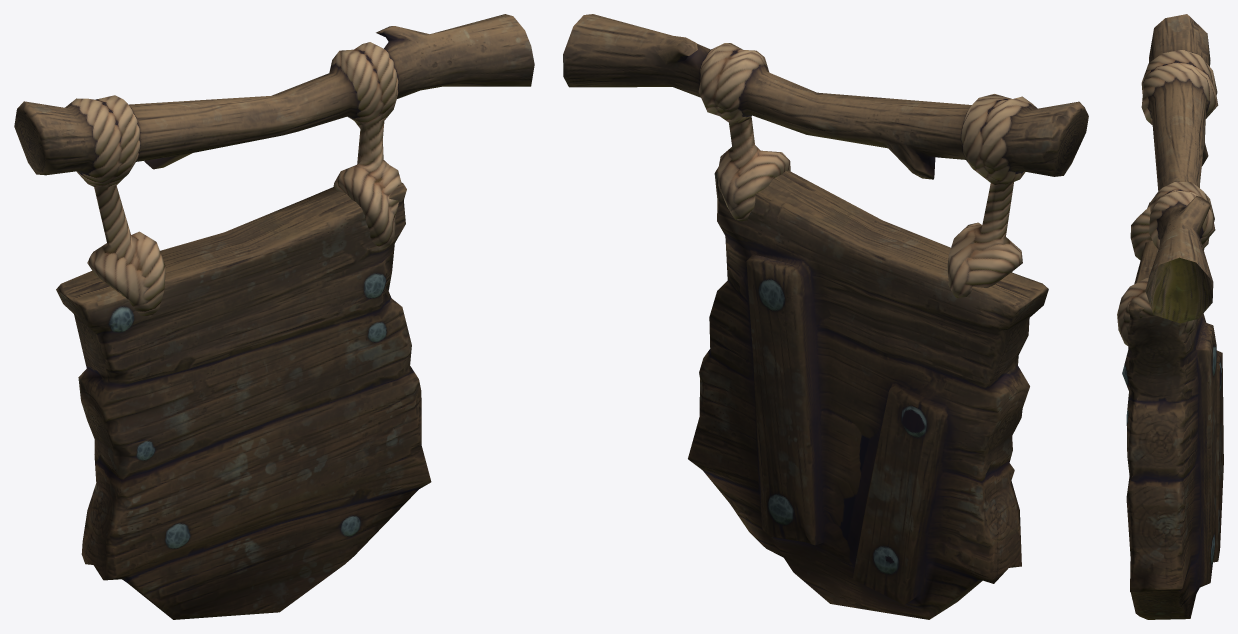
File: S_MVillage_Signs_02_A.fbx
3 renders of one model, left to right at view 1: azimuth 30°, elevation 25°; view 2: azimuth 150°, elevation 25°; view 3: azimuth 270°, elevation 25°, orthographic. The views are drawn at different scales.
Visible parts, largest first — view 1: S_MVillage_Signs_02_A_LOD0; view 2: S_MVillage_Signs_02_A_LOD0; view 3: S_MVillage_Signs_02_A_LOD0.
Part boxes in pixels (x1=…): S_MVillage_Signs_02_A_LOD0: x1=14, y1=14, x2=534, y2=619; S_MVillage_Signs_02_A_LOD0: x1=563, y1=14, x2=1088, y2=619; S_MVillage_Signs_02_A_LOD0: x1=1117, y1=14, x2=1223, y2=619.
Size of what is drawn, in the model's own units: 131 by 138 by 26.72.
